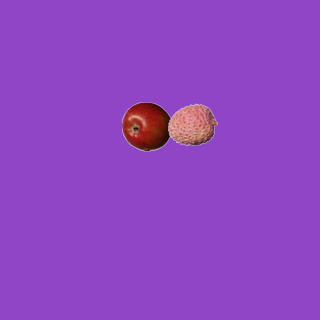Apple Braeburn: (121, 101, 171, 151)
Lychee: (167, 99, 217, 149)
